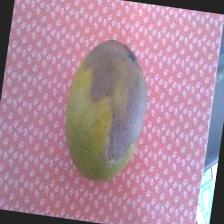Orange Rotten: (50, 28, 168, 197)
